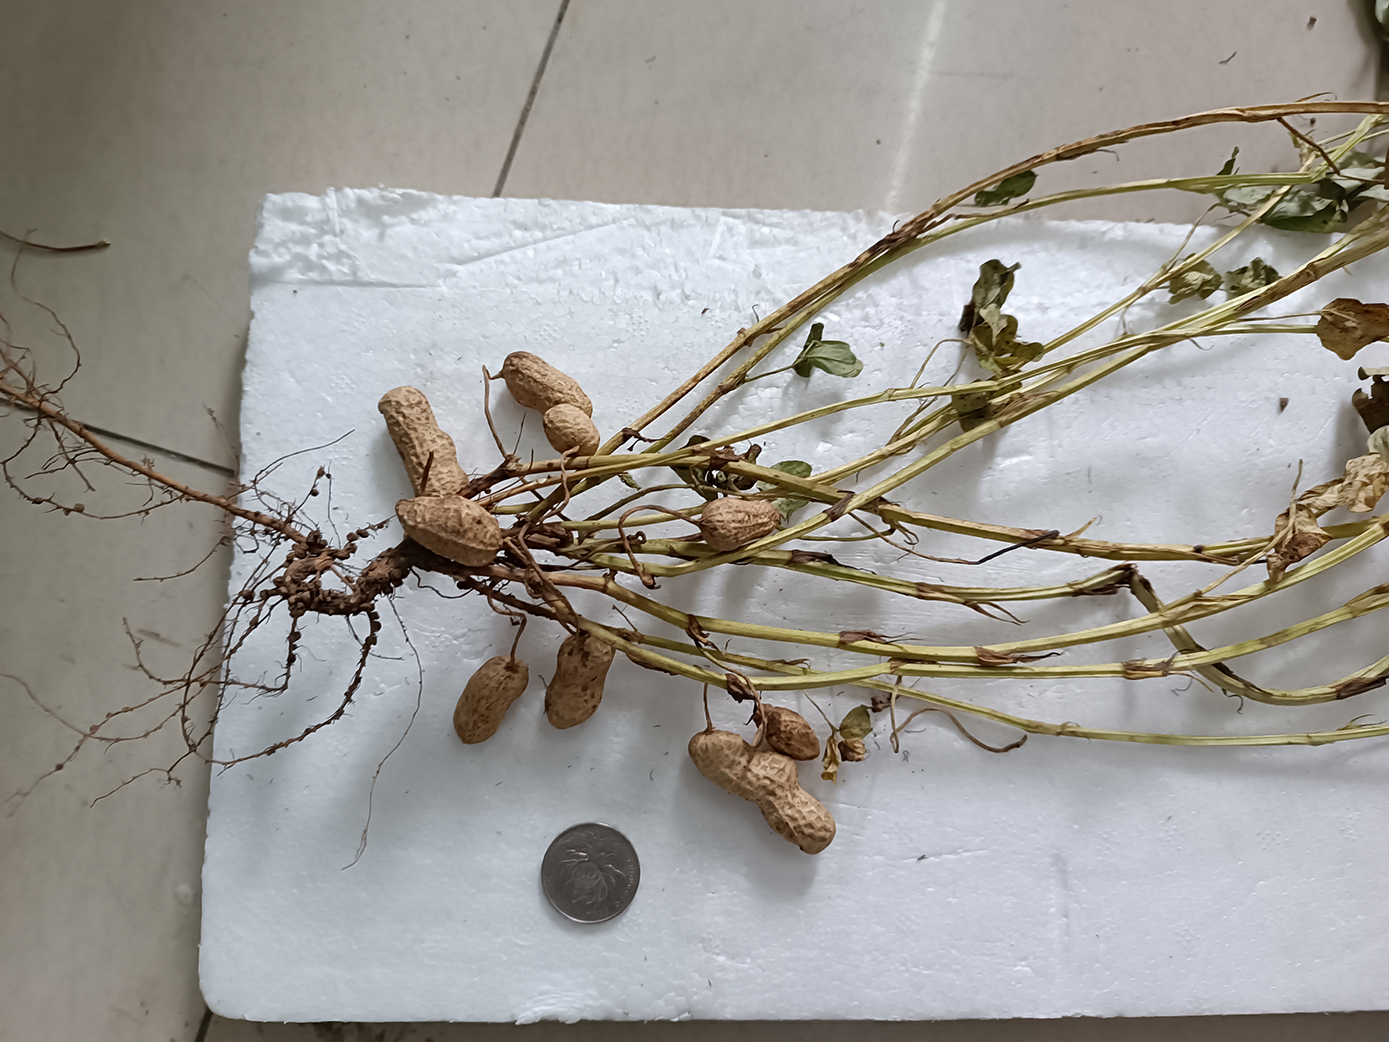h: (688, 730, 836, 856), (380, 387, 467, 493), (397, 494, 501, 563), (452, 656, 529, 745), (545, 633, 615, 726), (501, 349, 592, 415), (701, 496, 779, 548), (544, 404, 600, 455)
l: (752, 702, 819, 759)
